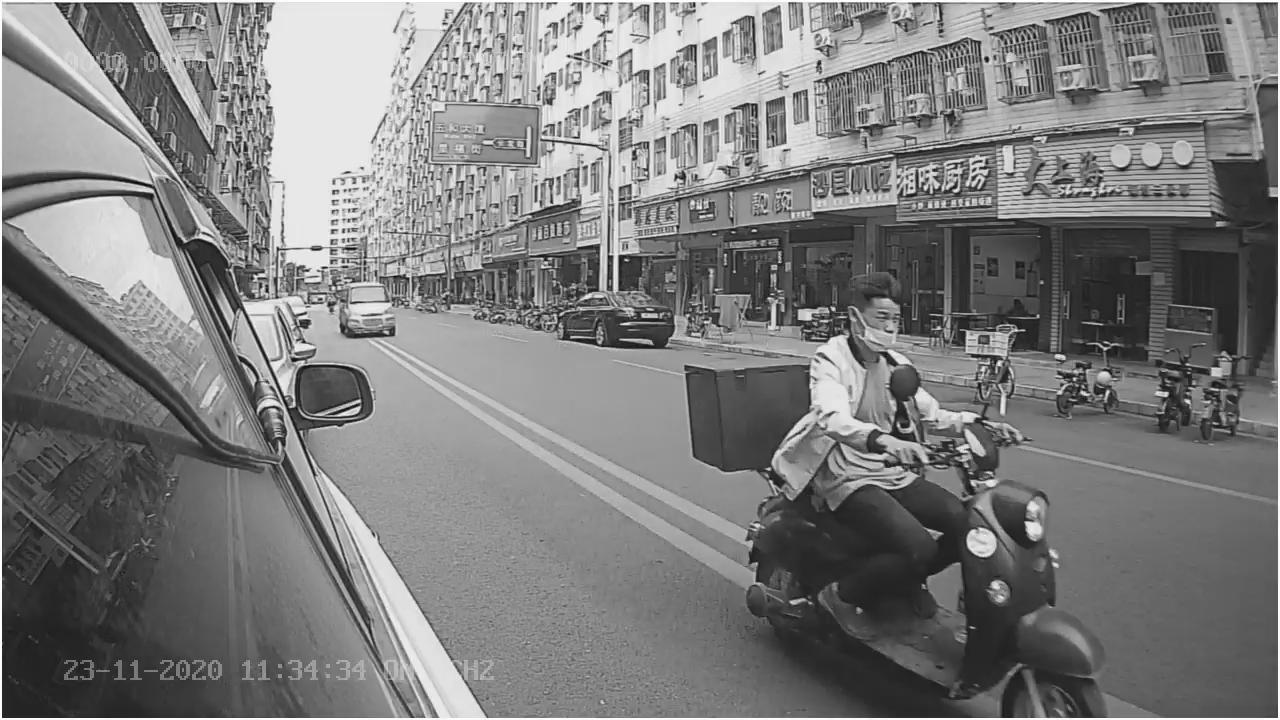person: (807, 268, 967, 464)
